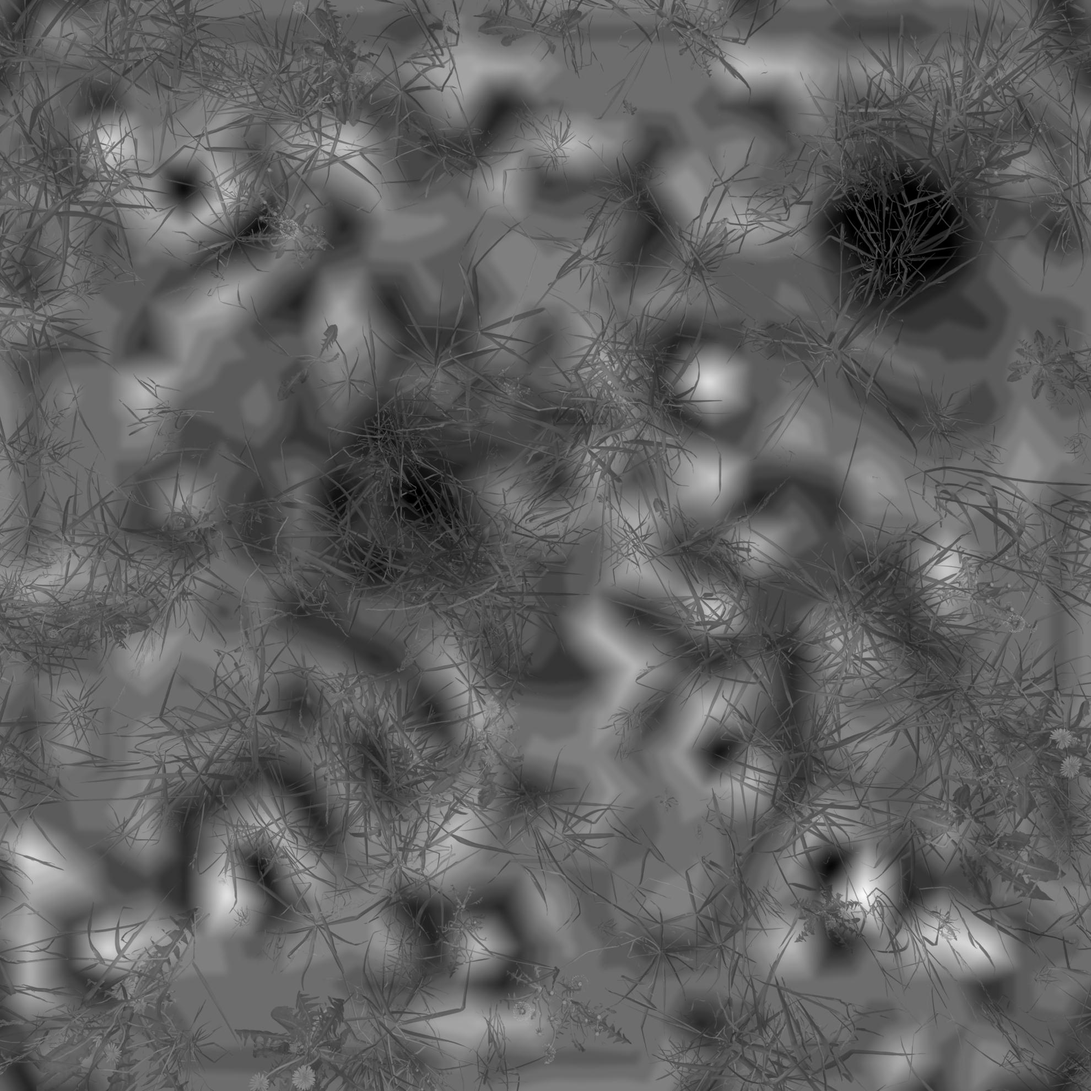landmine: (321, 432, 468, 579), (820, 165, 965, 299)
